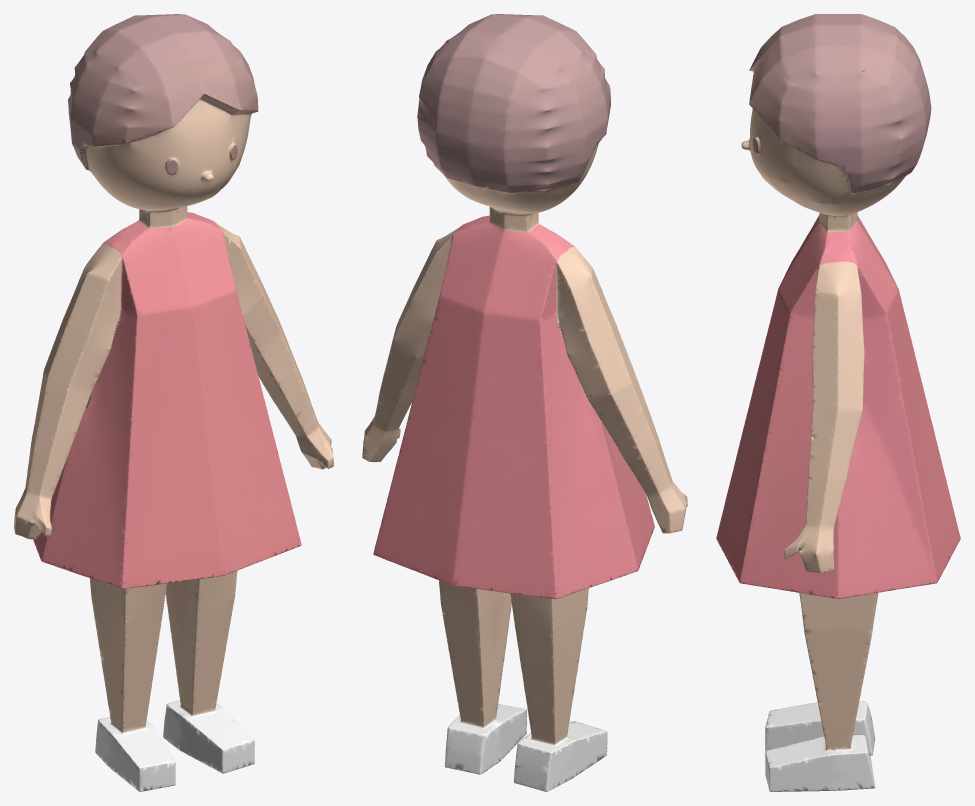
Rendered from MSB-Player-stand.glb.
The picture shows the model from 3 angles, left to right: view 1: azimuth 30°, elevation 25°; view 2: azimuth 150°, elevation 25°; view 3: azimuth 270°, elevation 25°; orthographic projection.
Size of the model in its own units: 0.8605 by 1.9 by 0.5694.
Materials: 1 (1 with a texture image).
